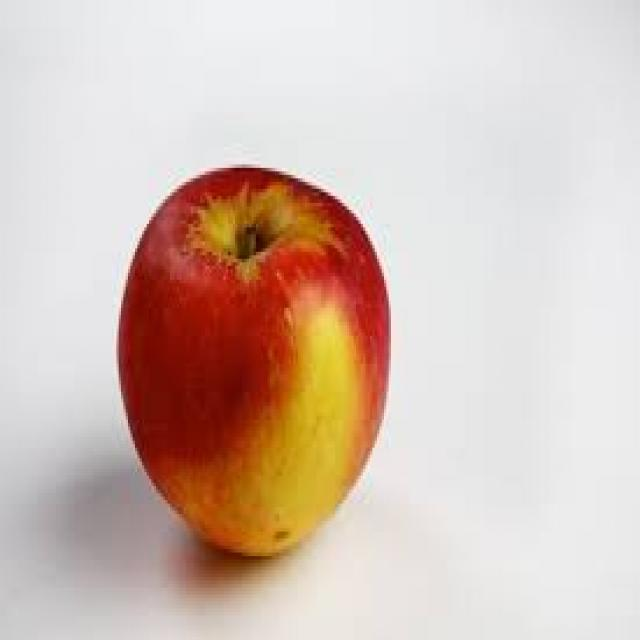apple: (105, 133, 402, 598)
